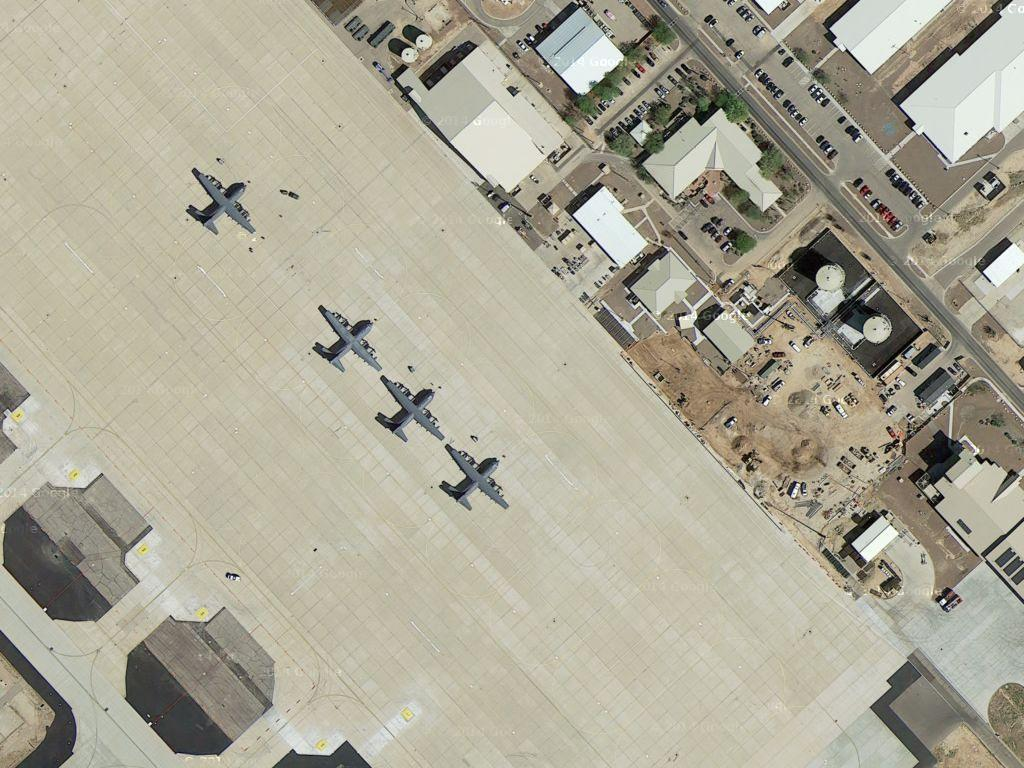C-130: (371, 373, 448, 446), (188, 165, 260, 238), (311, 306, 384, 378), (440, 443, 511, 516)
